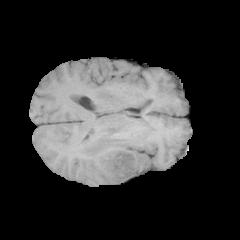glioma: (76, 130, 146, 184)
